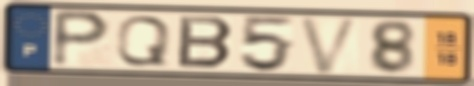5: (238, 13, 299, 73)
8: (366, 18, 418, 76)
B: (175, 13, 238, 71)
P: (49, 8, 115, 70)
Q: (113, 14, 174, 68)
V: (296, 16, 364, 76)
